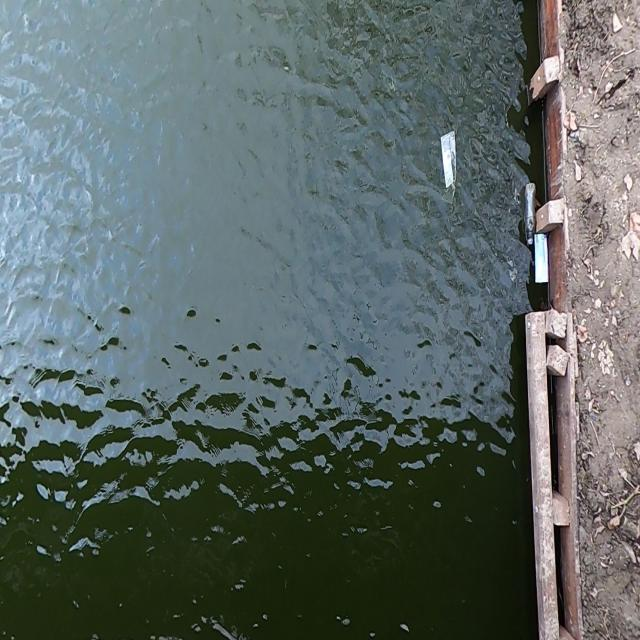Sac plastique: (437, 128, 462, 202)
